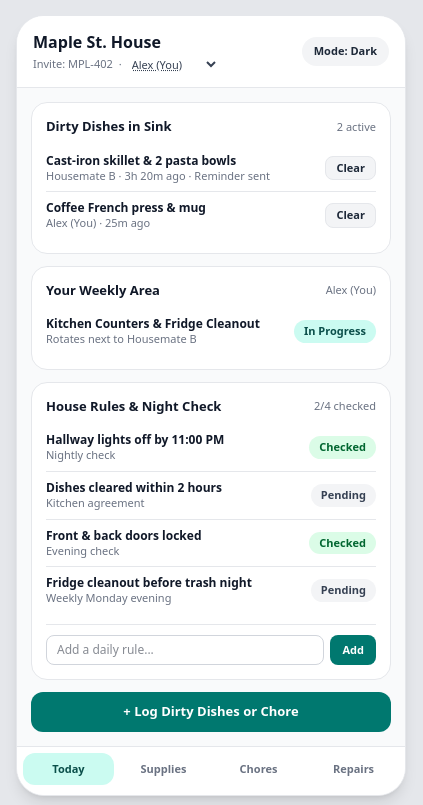
Test case: HouseFlow shell and navigation › renders the household header, daily rules on Today, and switches between all 4 tabs
The width and height of the screenshot is (423, 805).
Check: the heading "Maple St. House" is shown, box top-left (33, 31), bottom-right (161, 53)
Check: the heading "Dirty Dishes in Sink" is shown, box top-left (46, 117), bottom-right (172, 136)
Click the button "Supplies" at (164, 769), box top-left (118, 753), bottom-right (209, 785)
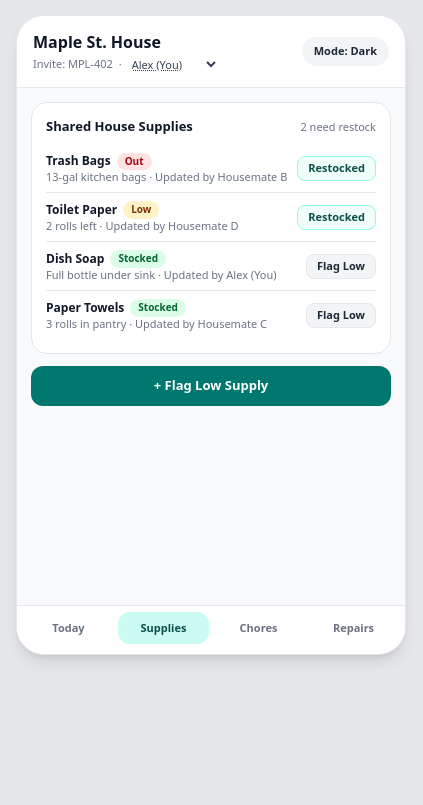
Check: the heading "Shared House Supplies" is shown, box top-left (46, 117), bottom-right (193, 136)
Click the button "Chores" at (258, 628), box top-left (213, 612), bottom-right (304, 644)
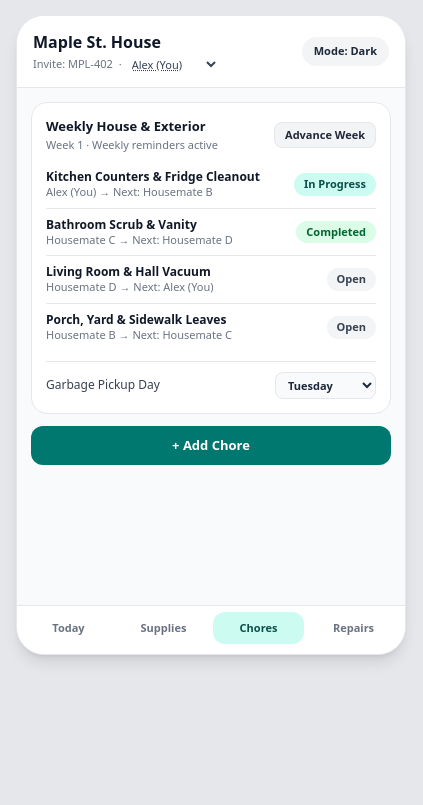
Check: the heading "Weekly House & Exterior" is shown, box top-left (46, 117), bottom-right (218, 136)
Click the button "Repairs" at (354, 628), box top-left (308, 612), bottom-right (399, 644)
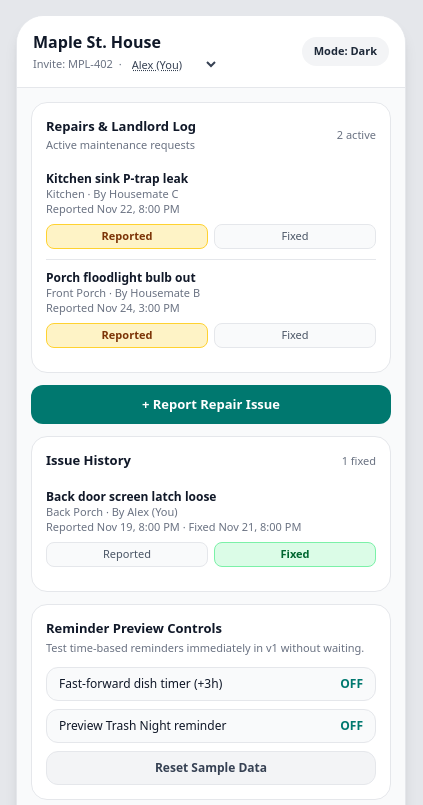
Check: the heading "Repairs & Landlord Log" is shown, box top-left (46, 117), bottom-right (196, 136)
